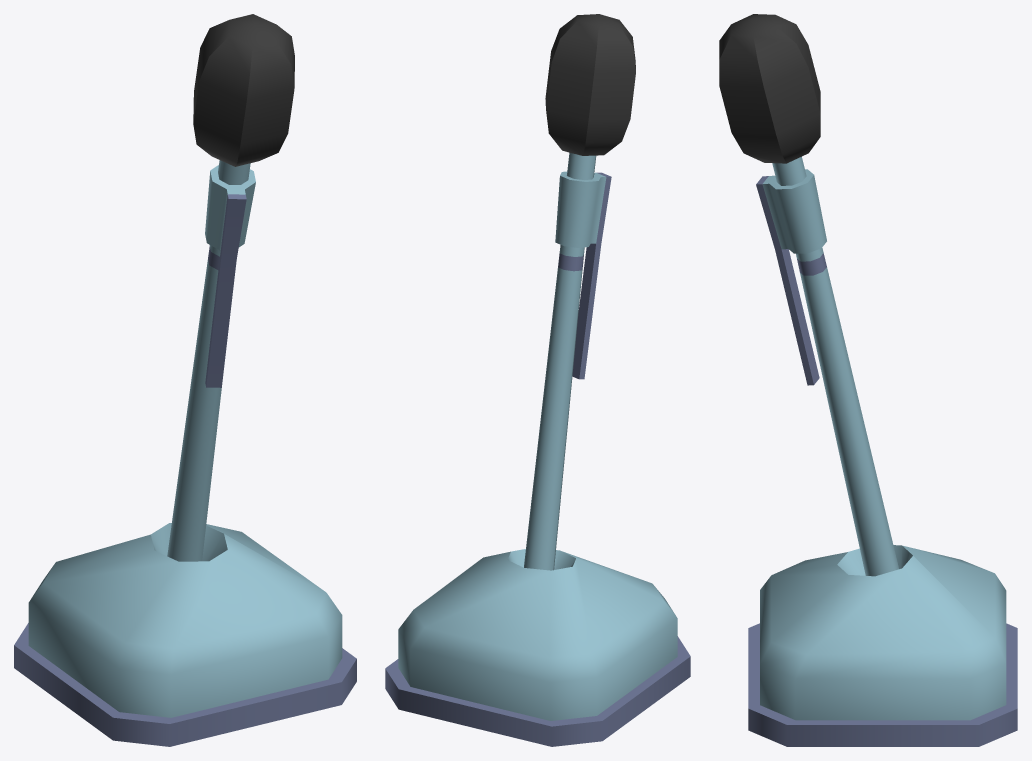
The model's file is microphone.fbx.
3 renders of one model, left to right at view 1: azimuth 30°, elevation 25°; view 2: azimuth 150°, elevation 25°; view 3: azimuth 270°, elevation 25°, orthographic. The views are drawn at different scales.
Visible parts, largest first — view 1: Cube_025, capsule; view 2: Cube_025, capsule; view 3: Cube_025, capsule.
Boxes of the visible parts, bbox=[...] form: Cube_025: bbox=[14, 160, 356, 746]; capsule: bbox=[193, 14, 294, 166]; Cube_025: bbox=[385, 152, 690, 746]; capsule: bbox=[545, 14, 635, 155]; Cube_025: bbox=[748, 156, 1017, 746]; capsule: bbox=[719, 14, 820, 163].
Bounding box in the file's own units: 20.39 × 56.07 × 22.59.
